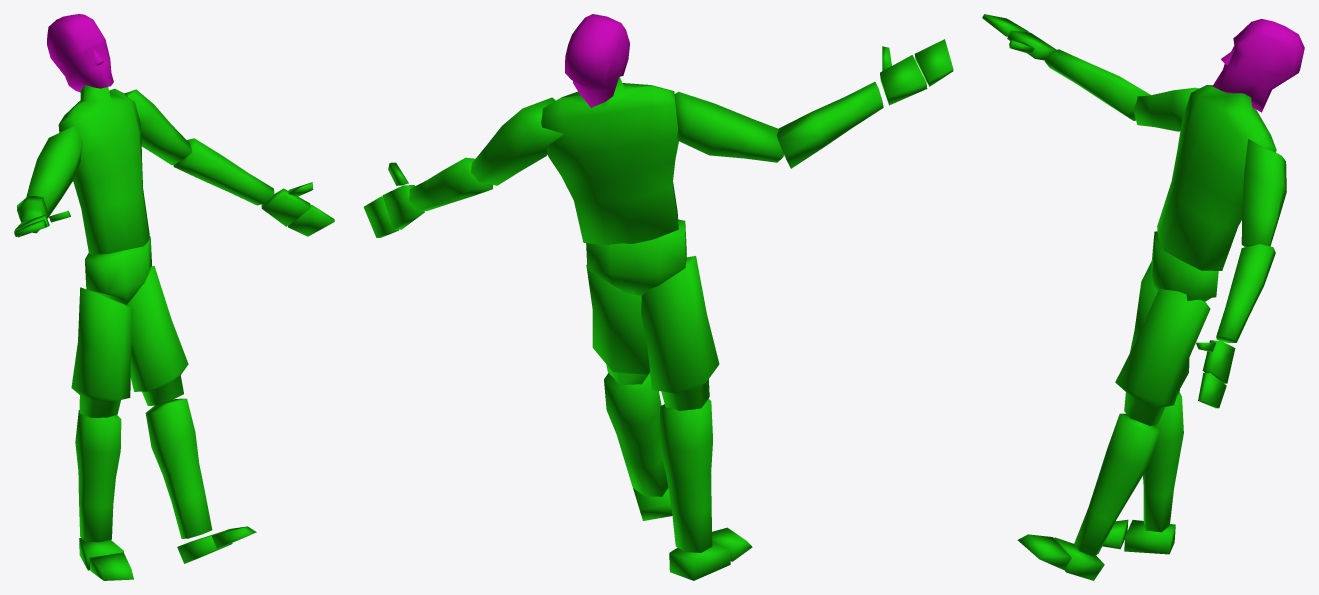
Rendered from OffBalanceCharacter.FBX.
3 views of the same model, side by side, from view 1: azimuth 30°, elevation 25°; view 2: azimuth 150°, elevation 25°; view 3: azimuth 270°, elevation 25° (orthographic). The views are drawn at different scales.
Parts seen in each view (by area): view 1: Body, Head; view 2: Body, Head; view 3: Body, Head.
Part boxes in pixels (x1,y1,x2,y2): Body: [14, 85, 334, 580]; Head: [47, 14, 113, 92]; Body: [363, 39, 953, 580]; Head: [565, 14, 629, 107]; Body: [982, 14, 1286, 580]; Head: [1212, 19, 1304, 112].
Size of the model in its own units: 1.62 by 1.88 by 1.02.
